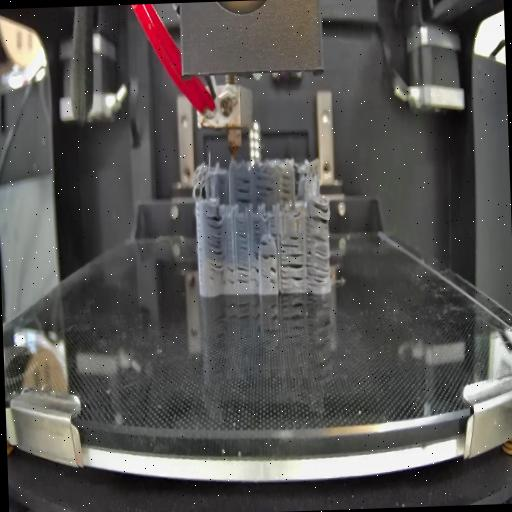cracks: (304, 236, 332, 287), (206, 212, 224, 273), (278, 253, 304, 290), (224, 257, 249, 288), (254, 172, 273, 202), (233, 174, 251, 205), (308, 200, 328, 226), (276, 174, 293, 200), (250, 248, 260, 287), (236, 220, 248, 252), (278, 234, 300, 250), (268, 266, 278, 286), (268, 216, 277, 237), (258, 250, 276, 260), (252, 219, 260, 235), (257, 238, 270, 246)
